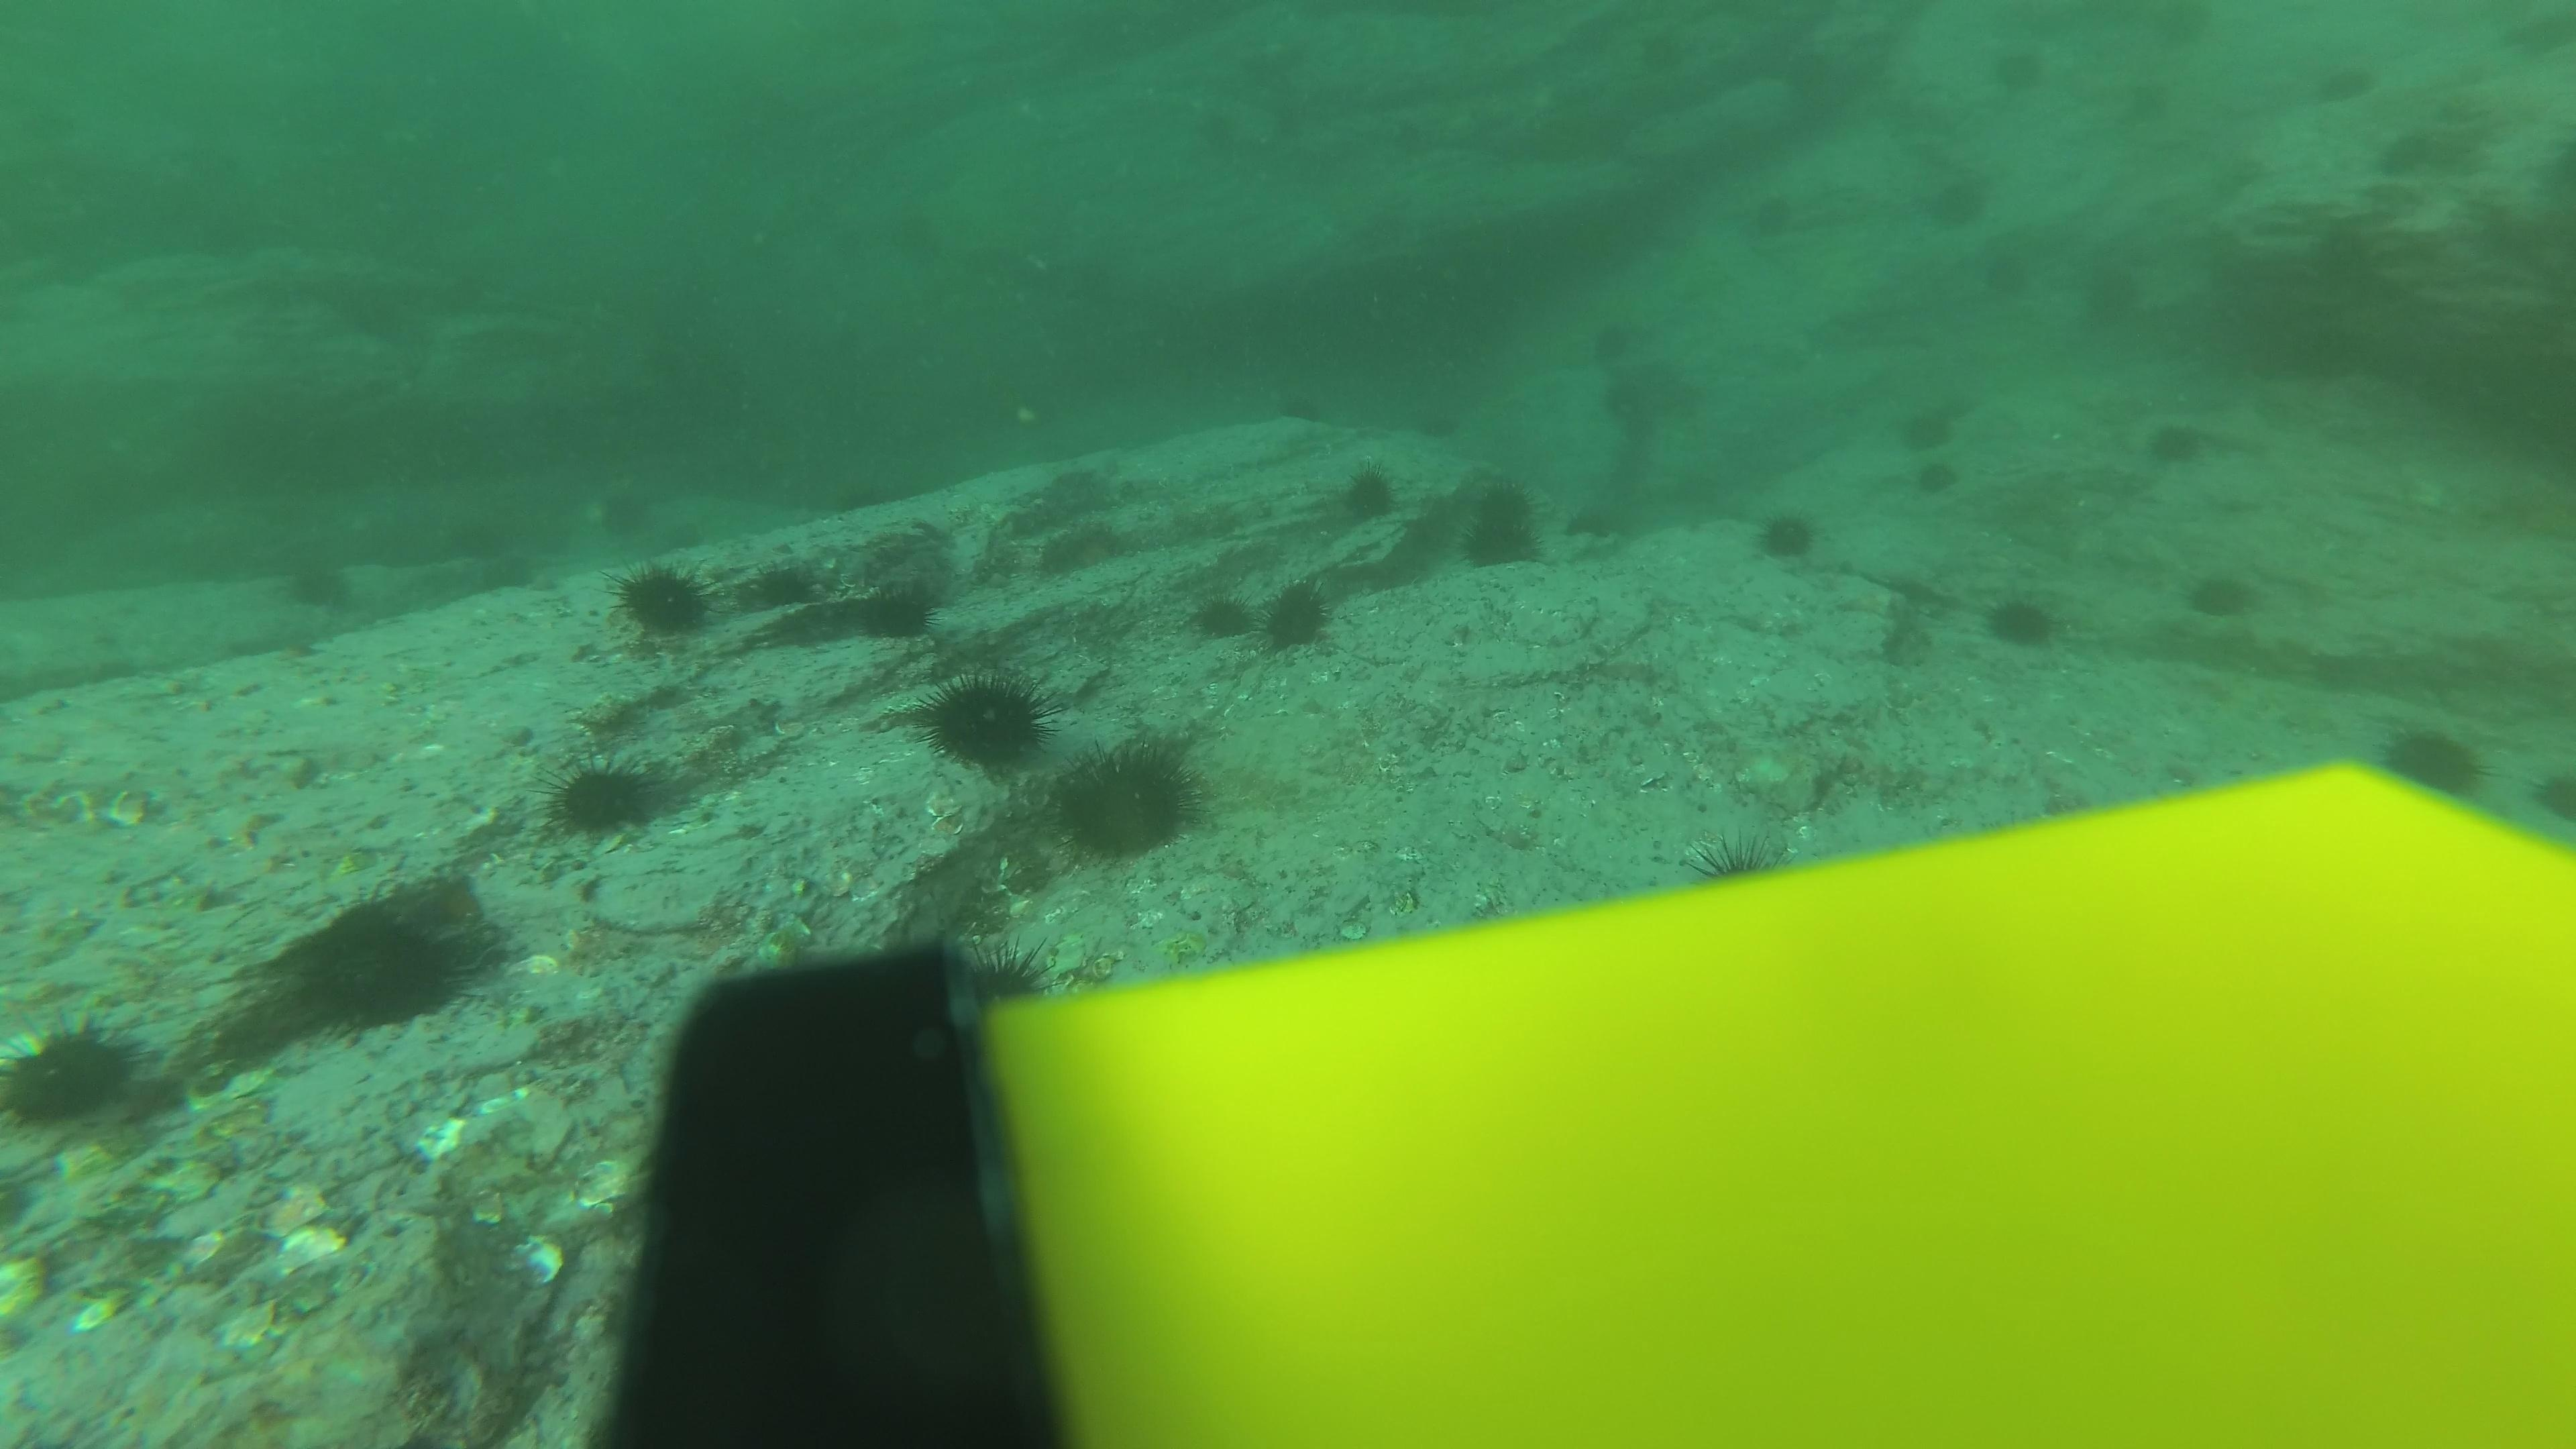echinus: (272, 893, 476, 1037), (1051, 734, 1207, 865), (2, 1010, 149, 1138), (913, 665, 1054, 777), (538, 750, 671, 849), (2369, 715, 2493, 805), (1681, 823, 1805, 913), (605, 556, 722, 649), (945, 927, 1065, 1012), (1254, 573, 1345, 663), (1978, 584, 2068, 656), (855, 575, 943, 646), (272, 547, 357, 616), (2180, 563, 2263, 626), (1330, 456, 1405, 525), (1451, 515, 1536, 575), (1748, 502, 1824, 568), (1184, 584, 1253, 655), (2137, 410, 2213, 474), (748, 552, 823, 610), (2530, 748, 2576, 830), (1476, 476, 1536, 533), (600, 488, 663, 536), (483, 552, 538, 594), (1913, 458, 1962, 497), (2088, 276, 2137, 315), (1985, 253, 2035, 292), (1939, 180, 1989, 219), (1750, 191, 1799, 230), (1996, 42, 2045, 81), (2121, 76, 2171, 115), (1638, 32, 1688, 71), (1902, 409, 1950, 448), (2319, 67, 2367, 106), (837, 483, 876, 517), (1283, 393, 1322, 425), (1591, 324, 1629, 356), (1571, 506, 1610, 538), (1419, 410, 1456, 442)
